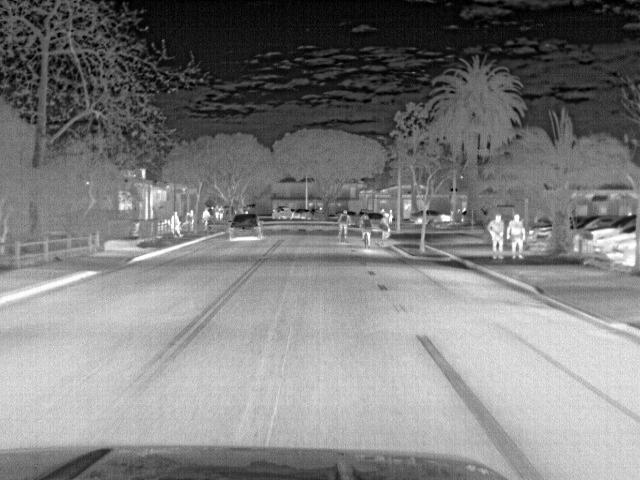car: (590, 212, 636, 240), (593, 227, 637, 252), (570, 213, 625, 232), (226, 214, 263, 242), (610, 237, 638, 264), (425, 208, 453, 226), (291, 207, 312, 222)
person: (506, 212, 529, 261), (489, 212, 508, 261), (337, 208, 352, 244), (378, 212, 394, 245), (358, 214, 374, 244), (169, 211, 185, 239), (198, 206, 211, 232)
